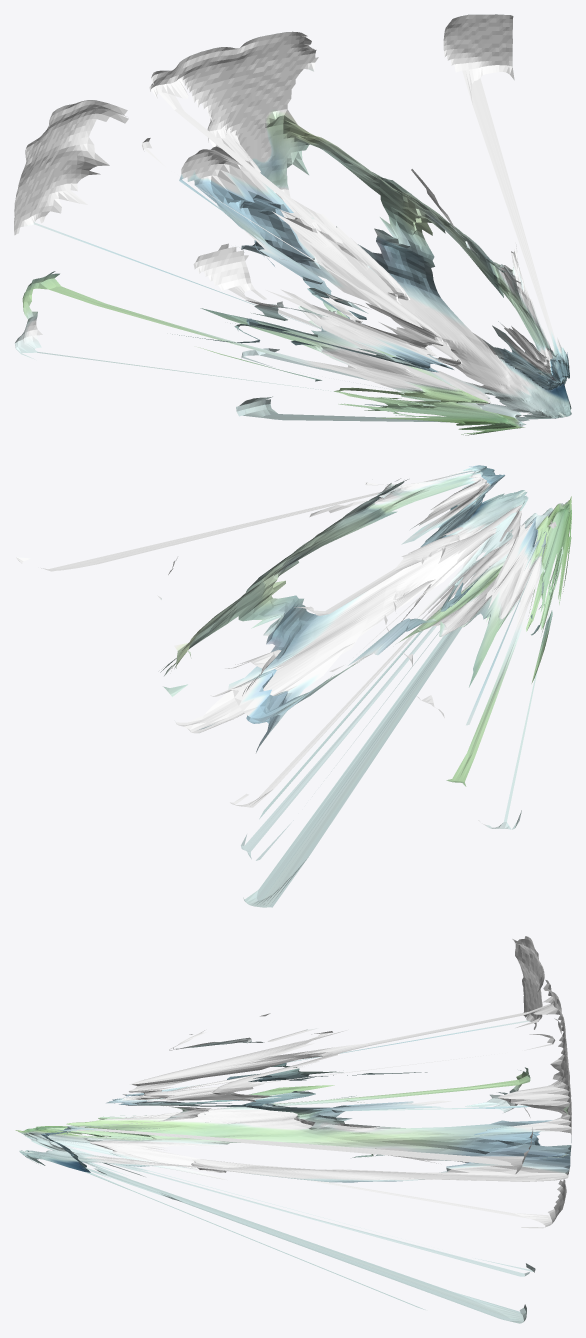
The picture shows the model from 3 angles, top to bottom: view 1: azimuth 30°, elevation 25°; view 2: azimuth 150°, elevation 25°; view 3: azimuth 270°, elevation 25°; orthographic projection. The views are drawn at different scales.
Visible parts, largest first — view 1: defaultobject; view 2: defaultobject; view 3: defaultobject.
Boxes of the visible parts, box(x1,y1,x2,y2) form: defaultobject: box(14, 14, 571, 435); defaultobject: box(16, 465, 571, 907); defaultobject: box(15, 936, 571, 1323).
Bounding box in the file's own units: 40.31 × 27.04 × 44.93.
1 material, 1 textured.
